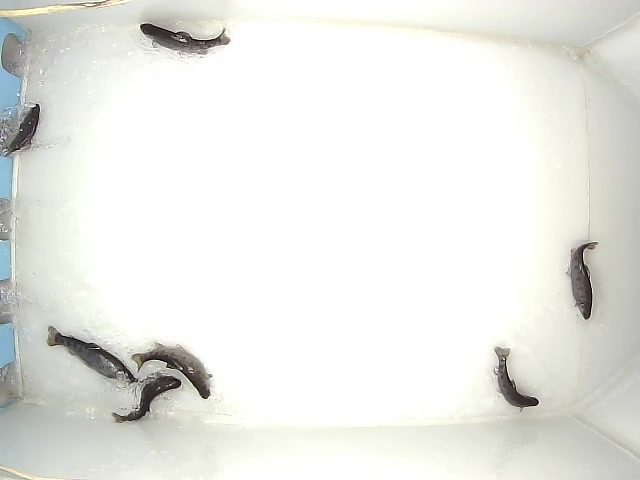fish: (46, 324, 139, 384), (130, 341, 214, 401), (111, 375, 182, 424), (492, 345, 540, 413), (139, 23, 233, 56), (564, 241, 599, 321), (1, 102, 41, 159)
